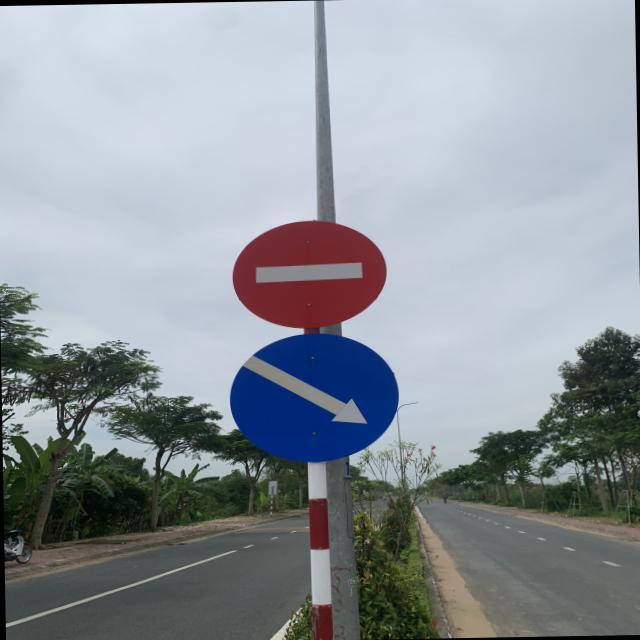Cam_Di_Nguoc_Chieu: (230, 217, 389, 329)
Chi_Huong_Di_Phai: (228, 329, 398, 462)
